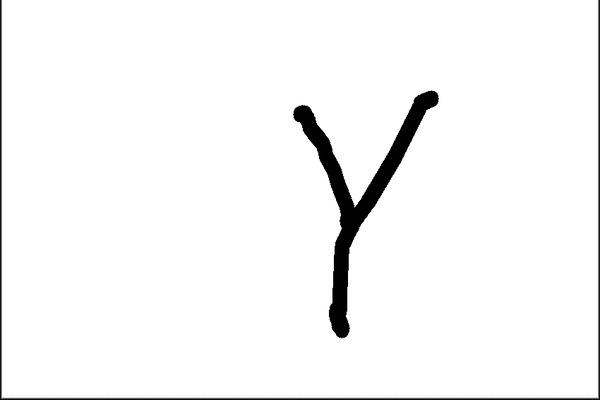Y: (282, 79, 475, 348)
